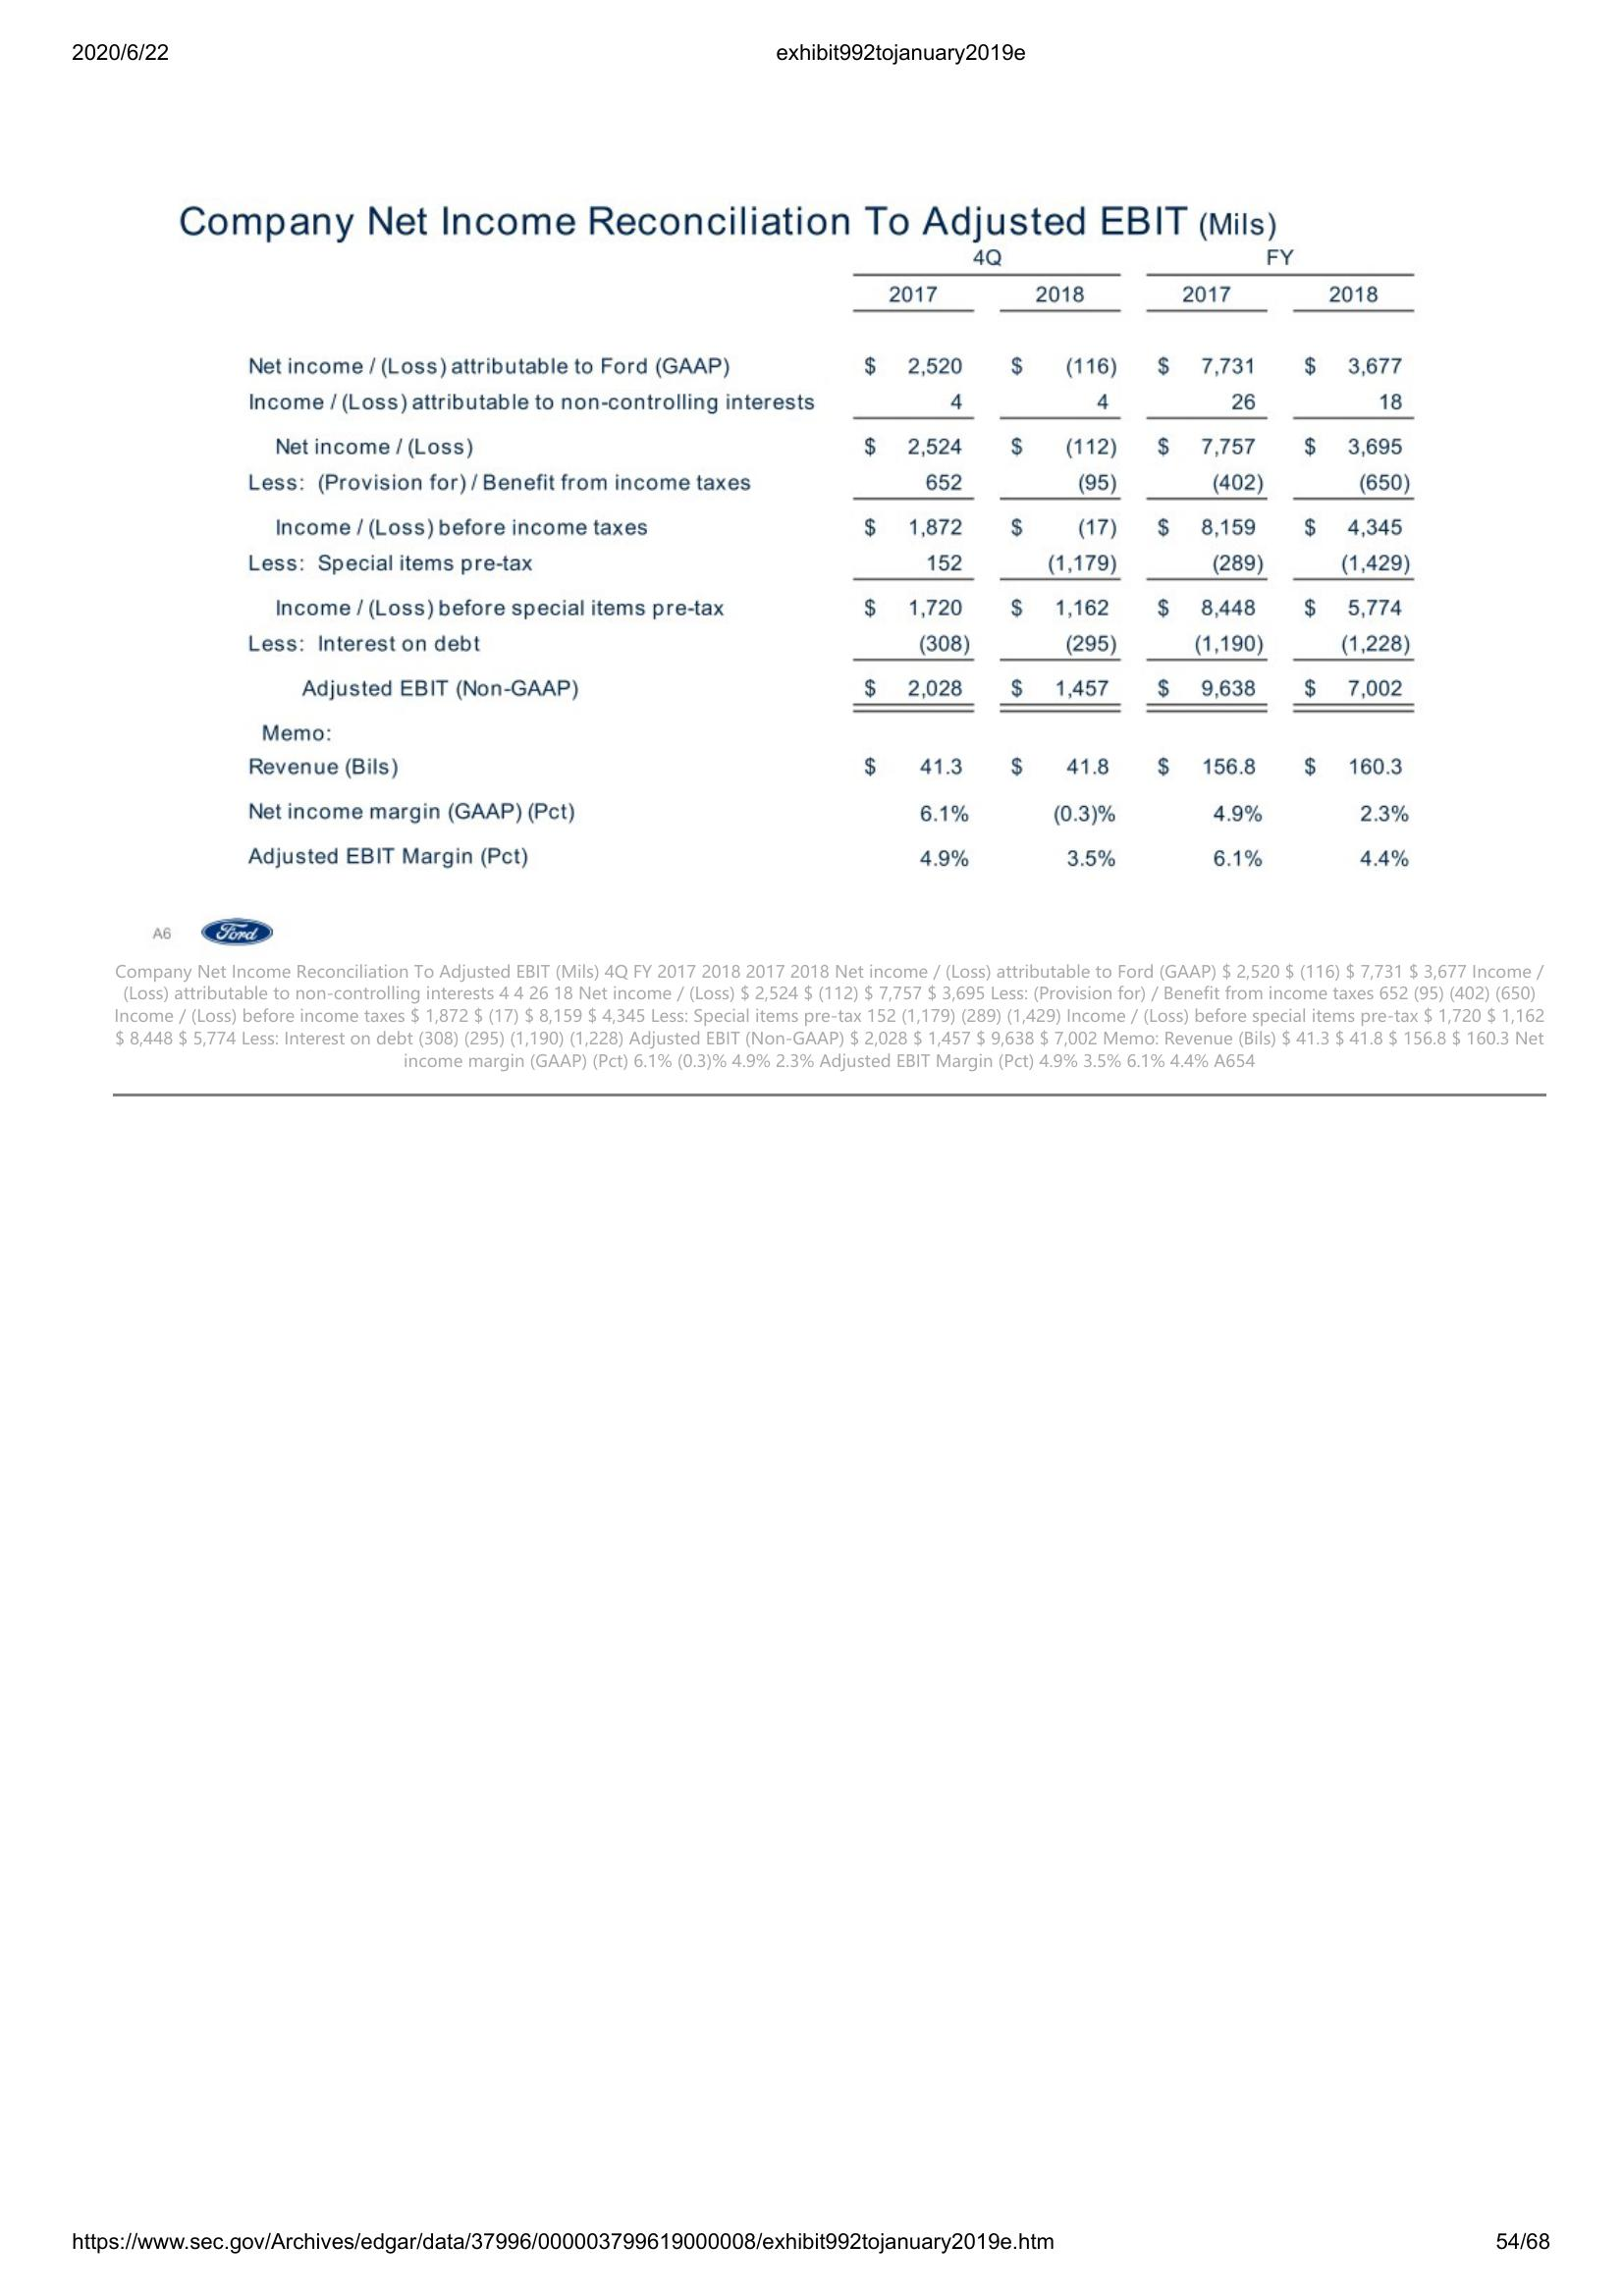table: (237, 244, 1419, 872)
